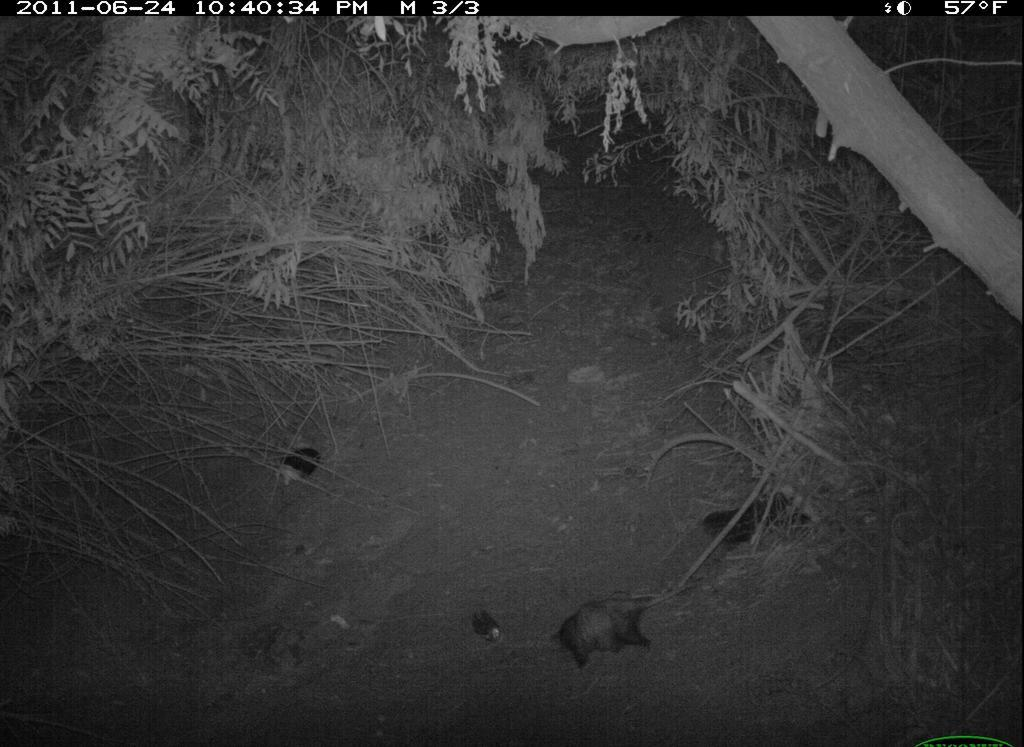opossum: (545, 574, 710, 674)
